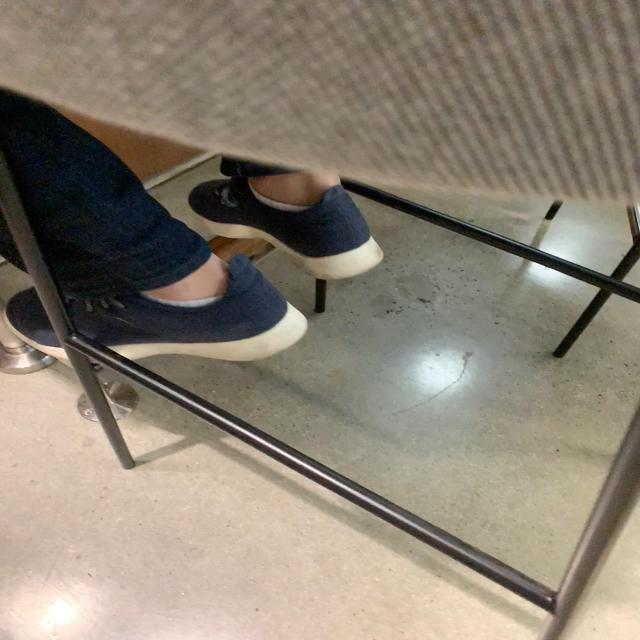shoe: (56, 256, 304, 358), (186, 175, 386, 285)
